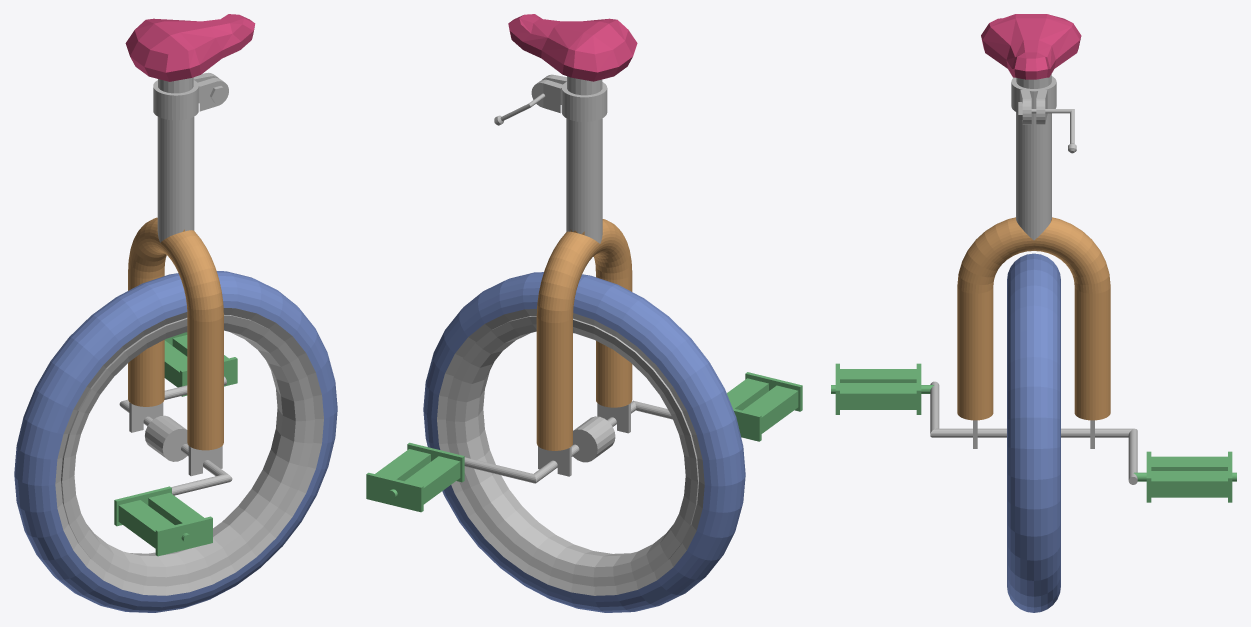
3 renders of one model, left to right at view 1: azimuth 30°, elevation 25°; view 2: azimuth 150°, elevation 25°; view 3: azimuth 270°, elevation 25°, orthographic.
Parts seen in each view (by area): view 1: pred_mesh_gc.ply; view 2: pred_mesh_gc.ply; view 3: pred_mesh_gc.ply.
Part boxes in pixels (x1=…): pred_mesh_gc.ply: x1=14, y1=14, x2=337, y2=612; pred_mesh_gc.ply: x1=366, y1=14, x2=802, y2=612; pred_mesh_gc.ply: x1=831, y1=14, x2=1236, y2=612.
Size of the model in its own units: 0.4318 by 0.76 by 0.4857.
